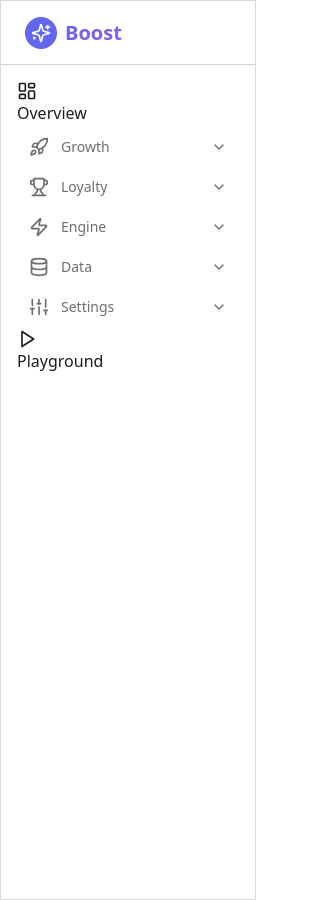
Test: Sidebar › expands Loyalty group to show Tiers & Points and Achievements
Note: Click on Loyalty to expand
Click the button "Loyalty". click: (128, 187)
box: [17, 169, 239, 205]
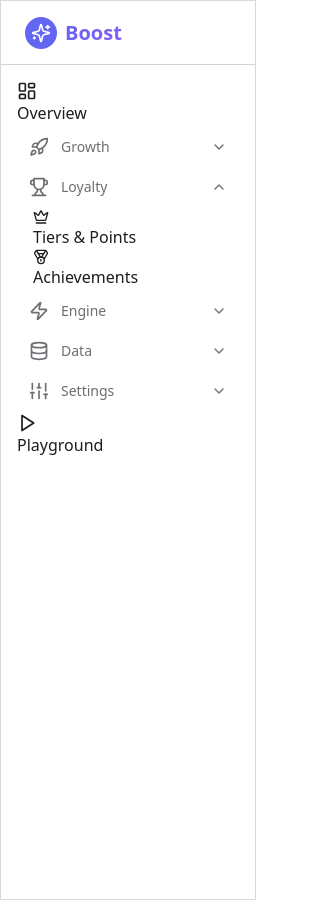
Result: the link "Tiers & Points" is shown at [33, 209, 136, 248]
Result: the link "Achievements" is shown at [33, 249, 138, 288]
